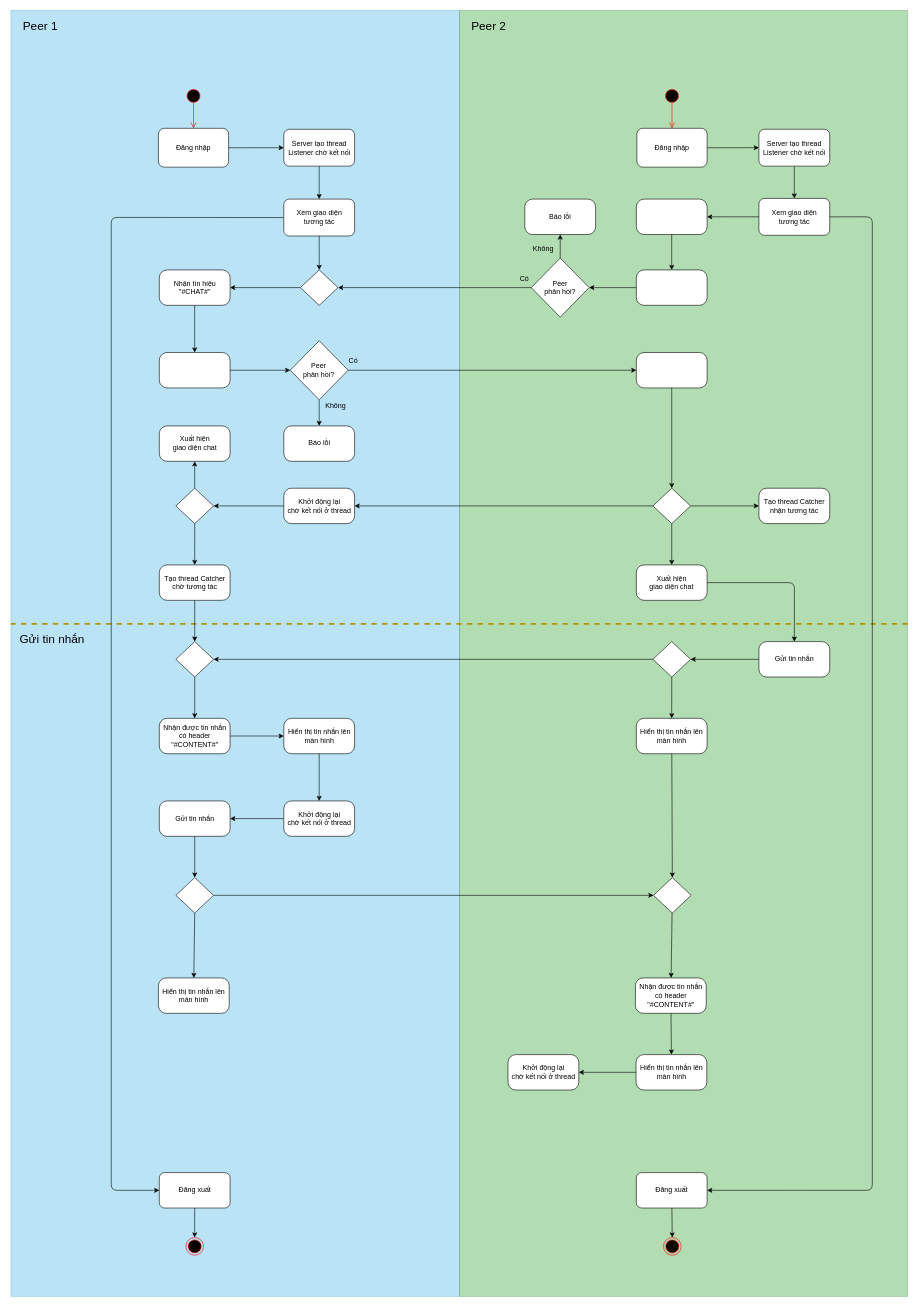
This 919x1307 diagram has some shape labels left out. The shapes that lost their labels are listed below. From the top down, each one's centre as x and y in pixels, then its label:
the point at 671,217: Chọn bạn
the point at 671,287: Gửi tín hiệu "#CHAT#", chờ kết nối socket
the point at 194,370: Tạo socket kết nối
the point at 671,370: Nhận được phản hồi, kết nối socket
